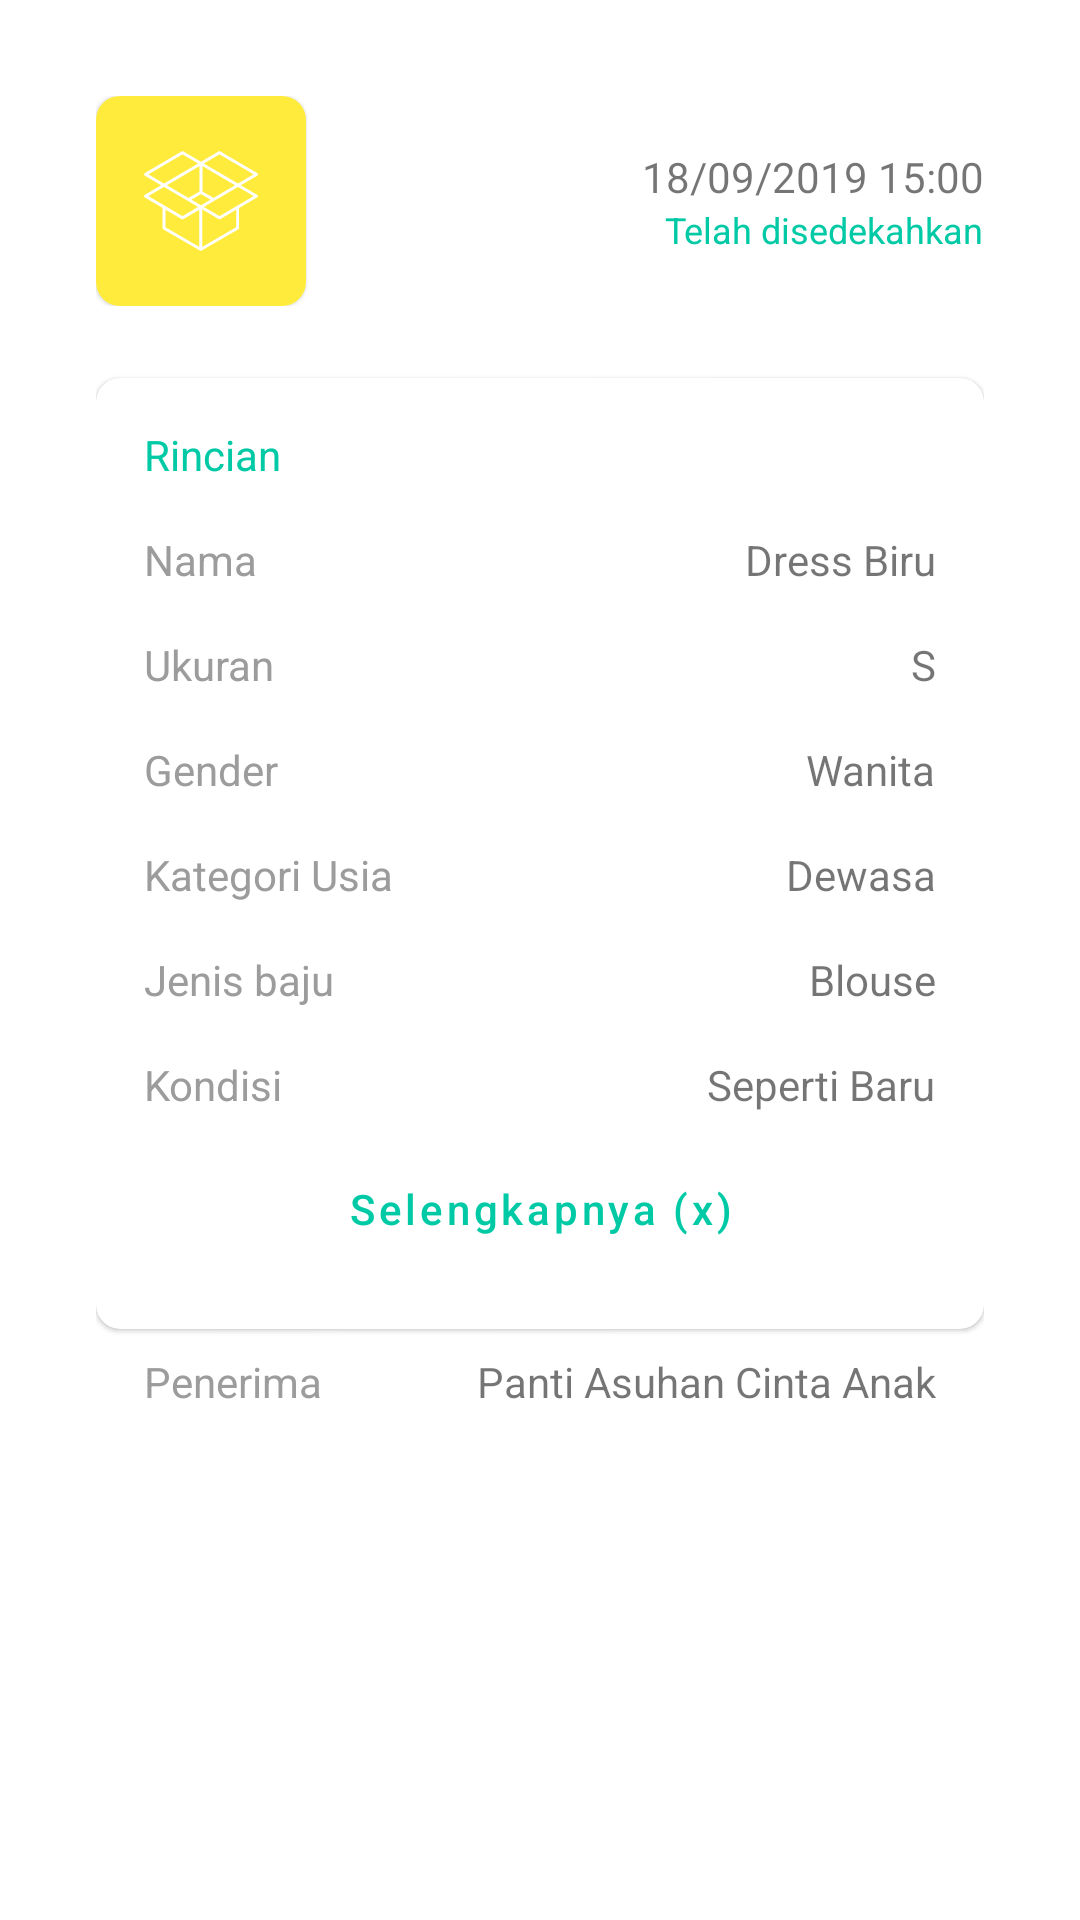

Screen size 1080w x 1920h. Icon name, then its box in pixels as region(x1, y1, x2, y2):
box: region(96, 96, 306, 306)
